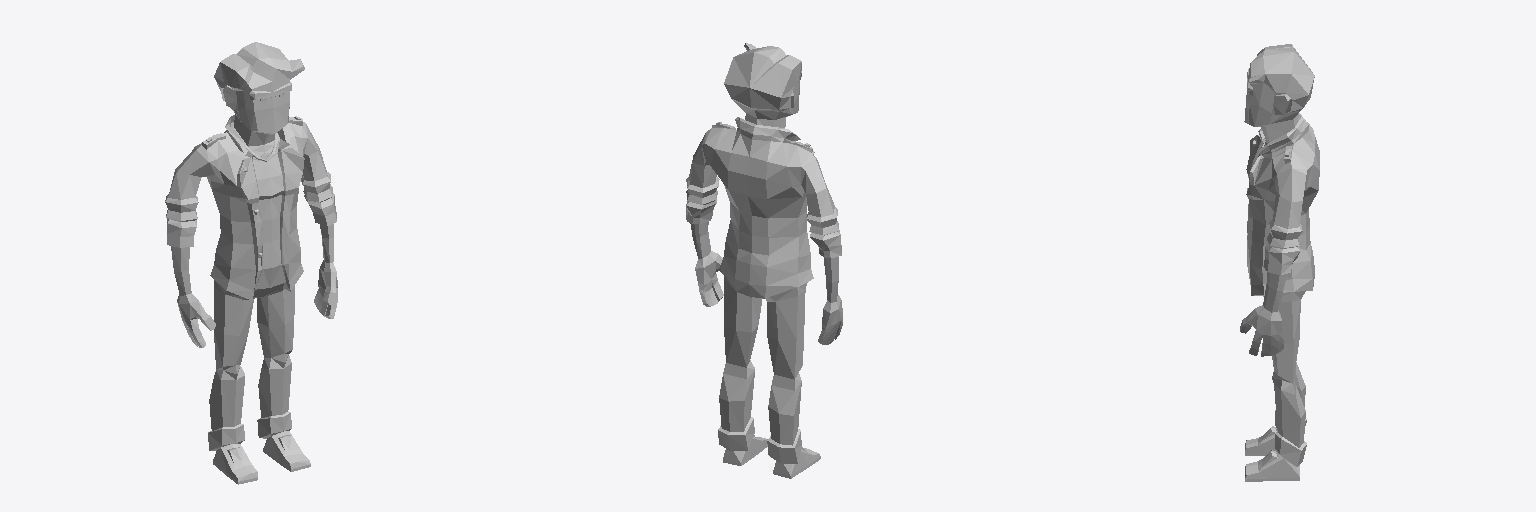
File: Gamer.obj
The picture shows the model from 3 angles: view 1: azimuth 30°, elevation 25°; view 2: azimuth 150°, elevation 25°; view 3: azimuth 270°, elevation 25°; orthographic projection.
Visible parts, largest first — view 1: Character_Male_Jacket_Mesh.002; view 2: Character_Male_Jacket_Mesh.002; view 3: Character_Male_Jacket_Mesh.002.
Boxes of the visible parts, x1=… form: Character_Male_Jacket_Mesh.002: x1=165, y1=42, x2=337, y2=484; Character_Male_Jacket_Mesh.002: x1=686, y1=43, x2=842, y2=478; Character_Male_Jacket_Mesh.002: x1=1240, y1=44, x2=1319, y2=481.
Size of the model in its own units: 0.7529 by 1.83 by 0.3195.